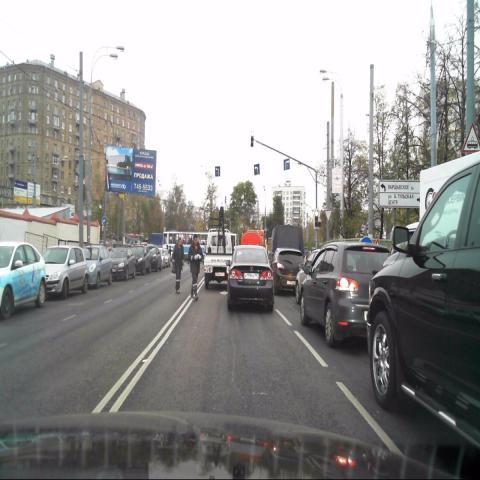1_5: (461, 124, 480, 153)
